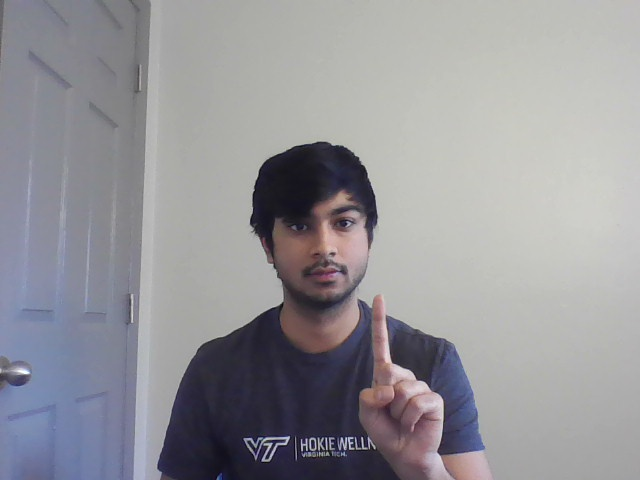one: (351, 291, 448, 458)
